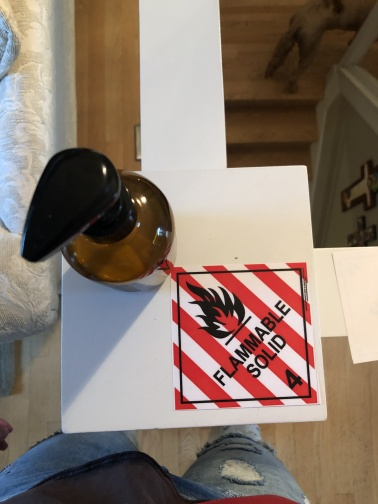FlammableSolid: (174, 267, 314, 403)
